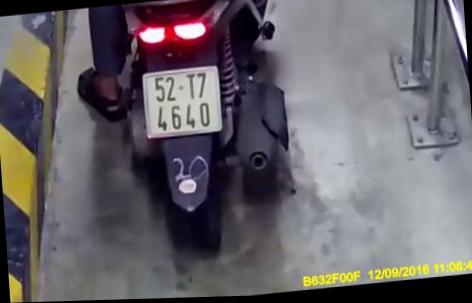LP: (141, 67, 223, 141)
